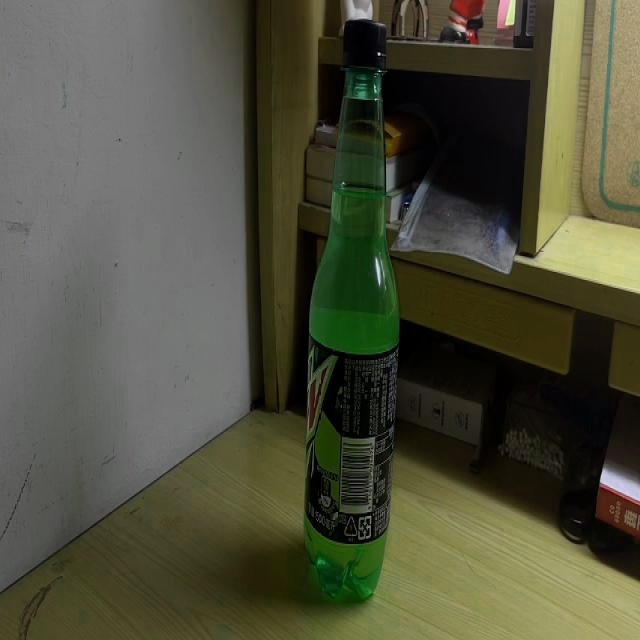Mountain-Dew: (302, 17, 398, 604)
